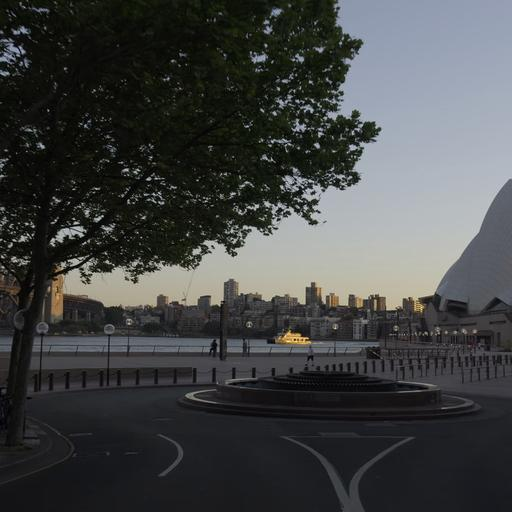Street light: (34, 321, 49, 390), (103, 323, 114, 385), (244, 319, 252, 355), (125, 317, 132, 355), (331, 322, 338, 355), (392, 323, 399, 350), (461, 327, 467, 347), (434, 324, 440, 344), (471, 328, 477, 347)
